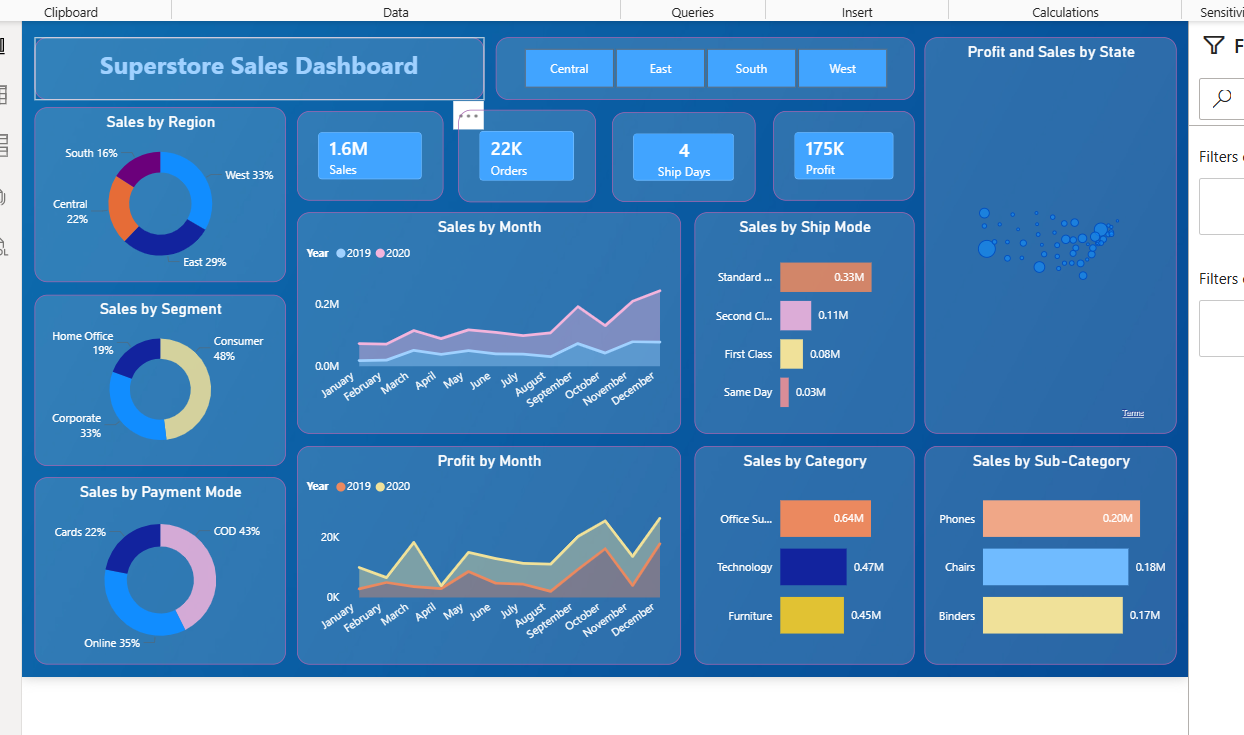

What the dashboard file says about the page in this screenshot:
{"tool":"powerbi","page":{"name":"Sales Report","canvas":[1280,720],"ordinal":0},"visuals":[{"type":"clusteredBarChart","title":" Sales by Category","fields":{"Category":["superstoreclean.Category"],"Y":["Sum(superstoreclean.Sales)"]},"box":[738.3,466.6,241.5,240.1],"z":0},{"type":"clusteredBarChart","title":" Sales by Sub-Category","fields":{"Y":["Sum(superstoreclean.Sales)"],"Category":["superstoreclean.Sub-Category"]},"box":[990.7,466.6,277.2,240.1],"z":1000},{"type":"clusteredBarChart","title":" Sales by Ship Mode","fields":{"Y":["Sum(superstoreclean.Sales)"],"Category":["superstoreclean.Ship Mode"]},"box":[738.3,209.9,241.5,242.9],"z":2000},{"type":"stackedAreaChart","title":" Sales by Month","fields":{"Category":["superstoreclean.Order Date.Variation.Date Hierarchy.Month","superstoreclean.Order Date.Variation.Date Hierarchy.Day"],"Y":["Sum(superstoreclean.Sales)"],"Series":["superstoreclean.Order Date.Variation.Date Hierarchy.Year"]},"box":[301.9,209.9,421.3,242.9],"z":3000},{"type":"stackedAreaChart","title":"Profit by Month","fields":{"Category":["superstoreclean.Order Date.Variation.Date Hierarchy.Month","superstoreclean.Order Date.Variation.Date Hierarchy.Day"],"Series":["superstoreclean.Order Date.Variation.Date Hierarchy.Year"],"Y":["Sum(superstoreclean.Profit)"]},"box":[301.9,466.6,421.3,240.1],"z":4000},{"type":"map","title":"Profit and Sales by State","fields":{"Category":["superstoreclean.State"],"Size":["Sum(superstoreclean.Sales)"]},"box":[990.7,17.8,277.2,435],"z":5000},{"type":"donutChart","title":"Sales by Segment","fields":{"Category":["superstoreclean.Segment"],"Y":["Sum(superstoreclean.Sales)"]},"box":[13.7,300.5,275.8,188],"z":6000},{"type":"donutChart","title":"Sales by Payment Mode","fields":{"Y":["Sum(superstoreclean.Sales)"],"Category":["superstoreclean.Payment Mode"]},"box":[13.7,500.9,275.8,205.8],"z":7000},{"type":"donutChart","title":"Sales by Region","fields":{"Y":["Sum(superstoreclean.Sales)"],"Category":["superstoreclean.Region"]},"box":[13.7,94.7,275.8,192.1],"z":8000},{"type":"slicer","fields":{"Values":["superstoreclean.Region"]},"box":[520.1,17.8,459.7,68.6],"z":9000},{"type":"textbox","box":[13.7,17.8,494,68.6],"z":10000},{"type":"cardVisual","fields":{"Data":["Sum(superstoreclean.Sales)"]},"box":[301.9,98.8,160.5,98.8],"z":11000},{"type":"cardVisual","fields":{"Data":["Sum(superstoreclean.Quantity)"]},"box":[478.9,97.4,150.9,101.5],"z":12000},{"type":"cardVisual","fields":{"Data":["Sum(superstoreclean.Profit)"]},"box":[824.7,98.8,155.1,98.8],"z":13000},{"type":"cardVisual","fields":{"Data":["Avg(superstoreclean.AvgDelivery)"]},"box":[647.7,100.2,157.8,98.8],"z":14000}]}

Visuals, with their boxes on the page's 1280x720 design canvas (x1, y1, x2, y2). These are canvas units, not pixel positions in the 1244x735 screenshot, which may show the page scaled, cropped or inside an application window:
" Sales by Category" clusteredBarChart: {"x1": 738, "y1": 467, "x2": 980, "y2": 707}
" Sales by Sub-Category" clusteredBarChart: {"x1": 991, "y1": 467, "x2": 1268, "y2": 707}
" Sales by Ship Mode" clusteredBarChart: {"x1": 738, "y1": 210, "x2": 980, "y2": 453}
" Sales by Month" stackedAreaChart: {"x1": 302, "y1": 210, "x2": 723, "y2": 453}
"Profit by Month" stackedAreaChart: {"x1": 302, "y1": 467, "x2": 723, "y2": 707}
"Profit and Sales by State" map: {"x1": 991, "y1": 18, "x2": 1268, "y2": 453}
"Sales by Segment" donutChart: {"x1": 14, "y1": 300, "x2": 290, "y2": 488}
"Sales by Payment Mode" donutChart: {"x1": 14, "y1": 501, "x2": 290, "y2": 707}
"Sales by Region" donutChart: {"x1": 14, "y1": 95, "x2": 290, "y2": 287}
slicer - superstoreclean.Region: {"x1": 520, "y1": 18, "x2": 980, "y2": 86}
textbox: {"x1": 14, "y1": 18, "x2": 508, "y2": 86}
cardVisual - Sum(superstoreclean.Sales): {"x1": 302, "y1": 99, "x2": 462, "y2": 198}
cardVisual - Sum(superstoreclean.Quantity): {"x1": 479, "y1": 97, "x2": 630, "y2": 199}
cardVisual - Sum(superstoreclean.Profit): {"x1": 825, "y1": 99, "x2": 980, "y2": 198}
cardVisual - Avg(superstoreclean.AvgDelivery): {"x1": 648, "y1": 100, "x2": 806, "y2": 199}
